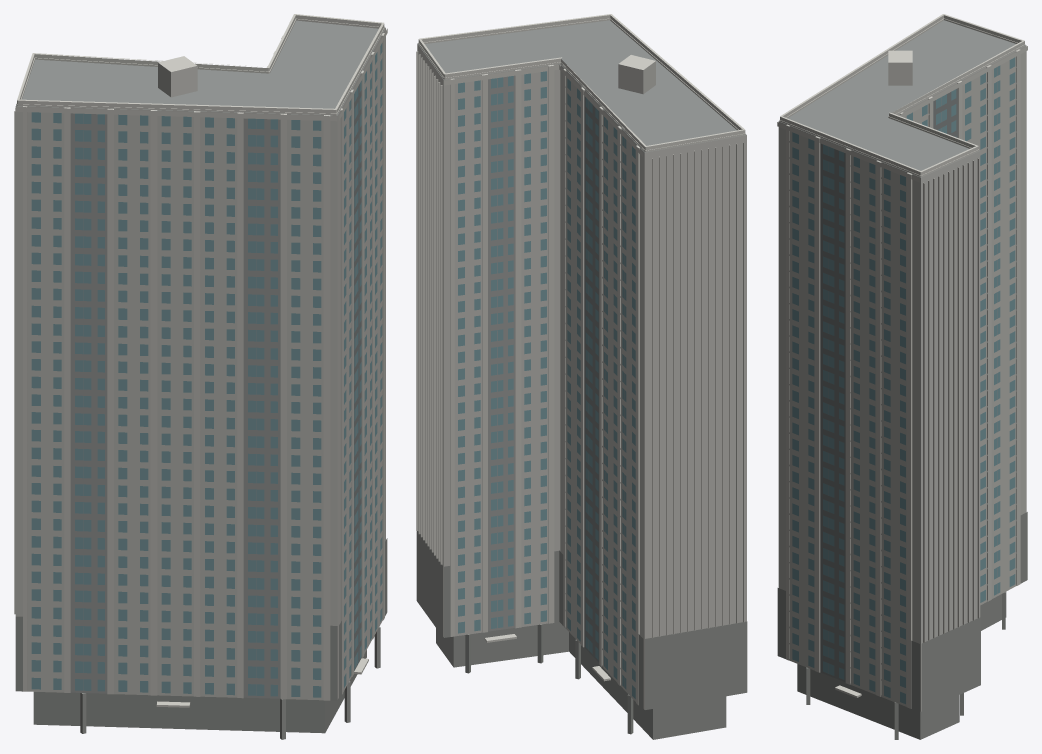
The model's file is maple-xi-108.glb.
3 views of the same model, side by side, from view 1: azimuth 30°, elevation 25°; view 2: azimuth 150°, elevation 25°; view 3: azimuth 270°, elevation 25° (orthographic). The views are drawn at different scales.
Visible parts, largest first — view 1: maple-xi-108; view 2: maple-xi-108; view 3: maple-xi-108.
Part boxes in pixels (x1,y1,x2,y2): maple-xi-108: [14, 14, 387, 739]; maple-xi-108: [416, 14, 747, 739]; maple-xi-108: [777, 14, 1027, 739].
Size of the model in its own units: 65.53 by 113 by 43.26.
